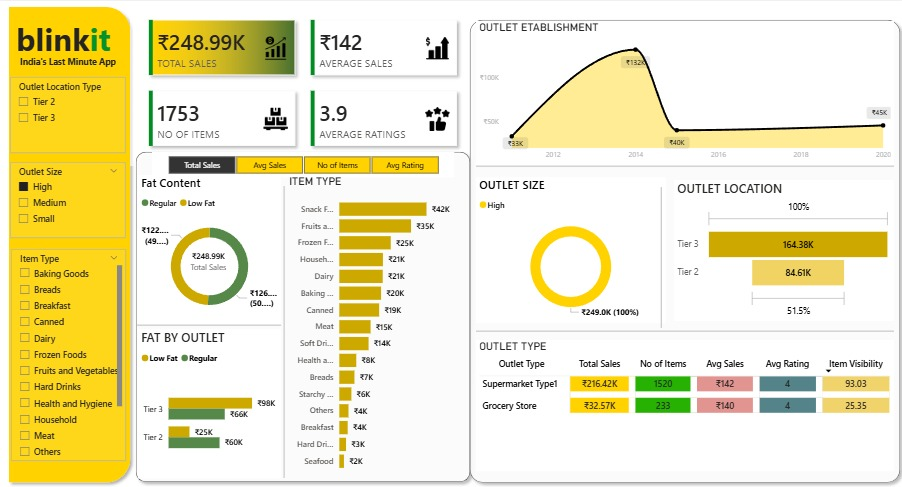

What the dashboard file says about the page in this screenshot:
{"tool":"powerbi","page":{"name":"Page 1","canvas":[1400,800],"ordinal":0},"visuals":[{"type":"shape","box":[10,0,205,750],"z":0},{"type":"textbox","box":[26.8,20.5,159.1,75.6],"z":1000},{"type":"textbox","box":[15.7,80.3,190.6,31.5],"z":2000},{"type":"cardVisual","fields":{"Data":["BlinkIT Grocery Data.Total Sales","BlinkIT Grocery Data.Avg Sales","BlinkIT Grocery Data.No of Items","BlinkIT Grocery Data.Avg Rating"]},"box":[206.3,0,532.3,253.5],"z":3000},{"type":"shape","box":[206.3,223.6,532.3,526],"z":4000},{"type":"donutChart","title":"Fat Content","fields":{"Y":["BlinkIT Grocery Data.Total Sales"],"Category":["BlinkIT Grocery Data.Item Fat Content"]},"box":[218.3,268.3,220,230],"z":5000},{"type":"slicer","fields":{"Values":["Metrics 3.Metrics"]},"box":[239.4,233.1,464.6,39.4],"z":6000},{"type":"cardVisual","fields":{"Data":["BlinkIT Grocery Data.Total Sales"]},"box":[268.3,365,118.3,71.7],"z":7000},{"type":"clusteredBarChart","title":"FAT BY OUTLET","fields":{"Y":["BlinkIT Grocery Data.Total Sales"],"Category":["BlinkIT Grocery Data.Outlet Location Type"],"Series":["BlinkIT Grocery Data.Item Fat Content"]},"box":[218.9,503.9,220.5,229.9],"z":8000},{"type":"shape","box":[216.7,455,221.7,86.7],"z":9000},{"type":"shape","box":[434.6,285,15.7,448.8],"z":10000},{"type":"barChart","title":"ITEM TYPE","fields":{"Y":["BlinkIT Grocery Data.Total Sales"],"Category":["BlinkIT Grocery Data.Item Type"]},"box":[445.7,267.7,274,466.1],"z":11000},{"type":"shape","box":[720,20,680,730],"z":12000},{"type":"lineChart","title":"OUTLET ETABLISHMENT","fields":{"Y":["BlinkIT Grocery Data.Total Sales"],"Category":["BlinkIT Grocery Data.Outlet Establishment Year"]},"box":[738.3,30,643.3,223.3],"z":13000},{"type":"donutChart","title":"OUTLET SIZE","fields":{"Y":["BlinkIT Grocery Data.Total Sales"],"Category":["BlinkIT Grocery Data.Outlet Size"]},"box":[738.3,270,291.7,225],"z":14000},{"type":"shape","box":[1016.7,286.7,13.3,216.7],"z":15000},{"type":"funnel","title":"OUTLET LOCATION","fields":{"Category":["BlinkIT Grocery Data.Outlet Location Type"],"Y":["Sum(BlinkIT Grocery Data.Sales)"]},"box":[1043.3,275,338.3,216.7],"z":16000},{"type":"shape","box":[738.3,465,643.3,86.7],"z":17000},{"type":"pivotTable","title":"OUTLET TYPE","fields":{"Rows":["BlinkIT Grocery Data.Outlet Type"],"Values":["BlinkIT Grocery Data.Total Sales","BlinkIT Grocery Data.No of Items","BlinkIT Grocery Data.Avg Sales","BlinkIT Grocery Data.Avg Rating","Sum(BlinkIT Grocery Data.Item Visibility)"]},"box":[738.3,521.7,643.3,201.7],"z":18000},{"type":"shape","box":[738.3,210,643.3,86.7],"z":19000},{"type":"slicer","fields":{"Values":["BlinkIT Grocery Data.Outlet Location Type"]},"box":[21.7,116.7,178.3,116.7],"z":20000},{"type":"slicer","fields":{"Values":["BlinkIT Grocery Data.Outlet Size"]},"box":[21.7,248.3,178.3,116.7],"z":21000},{"type":"slicer","fields":{"Values":["BlinkIT Grocery Data.Item Type"]},"box":[23.3,381.7,176.7,341.7],"z":22000}]}

Visuals, with their boxes on the page's 1400x800 design canvas (x1, y1, x2, y2). These are canvas units, not pixel positions in the 902x487 screenshot, which may show the page scaled, cropped or inside an application window:
shape: (10, 0, 215, 750)
textbox: (27, 20, 186, 96)
textbox: (16, 80, 206, 112)
cardVisual - BlinkIT Grocery Data.Total Sales x BlinkIT Grocery Data.Avg Sales: (206, 0, 739, 254)
shape: (206, 224, 739, 750)
"Fat Content" donutChart: (218, 268, 438, 498)
slicer - Metrics 3.Metrics: (239, 233, 704, 272)
cardVisual - BlinkIT Grocery Data.Total Sales: (268, 365, 387, 437)
"FAT BY OUTLET" clusteredBarChart: (219, 504, 439, 734)
shape: (217, 455, 438, 542)
shape: (435, 285, 450, 734)
"ITEM TYPE" barChart: (446, 268, 720, 734)
shape: (720, 20, 1400, 750)
"OUTLET ETABLISHMENT" lineChart: (738, 30, 1382, 253)
"OUTLET SIZE" donutChart: (738, 270, 1030, 495)
shape: (1017, 287, 1030, 503)
"OUTLET LOCATION" funnel: (1043, 275, 1382, 492)
shape: (738, 465, 1382, 552)
"OUTLET TYPE" pivotTable: (738, 522, 1382, 723)
shape: (738, 210, 1382, 297)
slicer - BlinkIT Grocery Data.Outlet Location Type: (22, 117, 200, 233)
slicer - BlinkIT Grocery Data.Outlet Size: (22, 248, 200, 365)
slicer - BlinkIT Grocery Data.Item Type: (23, 382, 200, 723)
